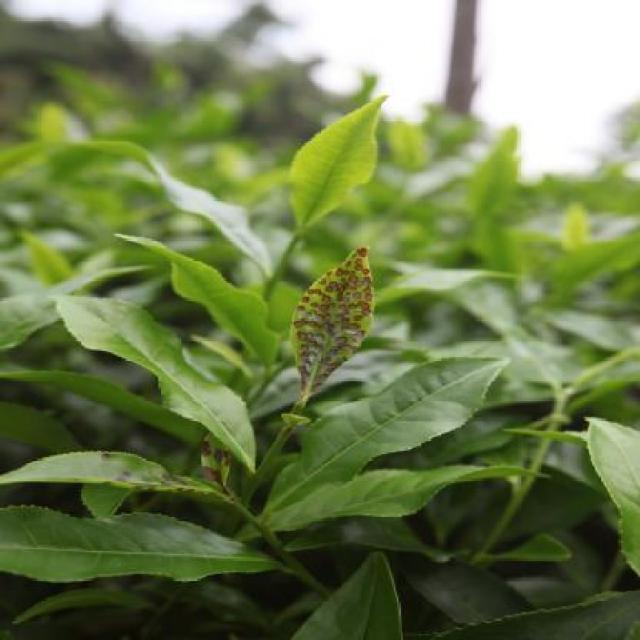Tea Mosquito bug infested leaf: (282, 243, 384, 400)
